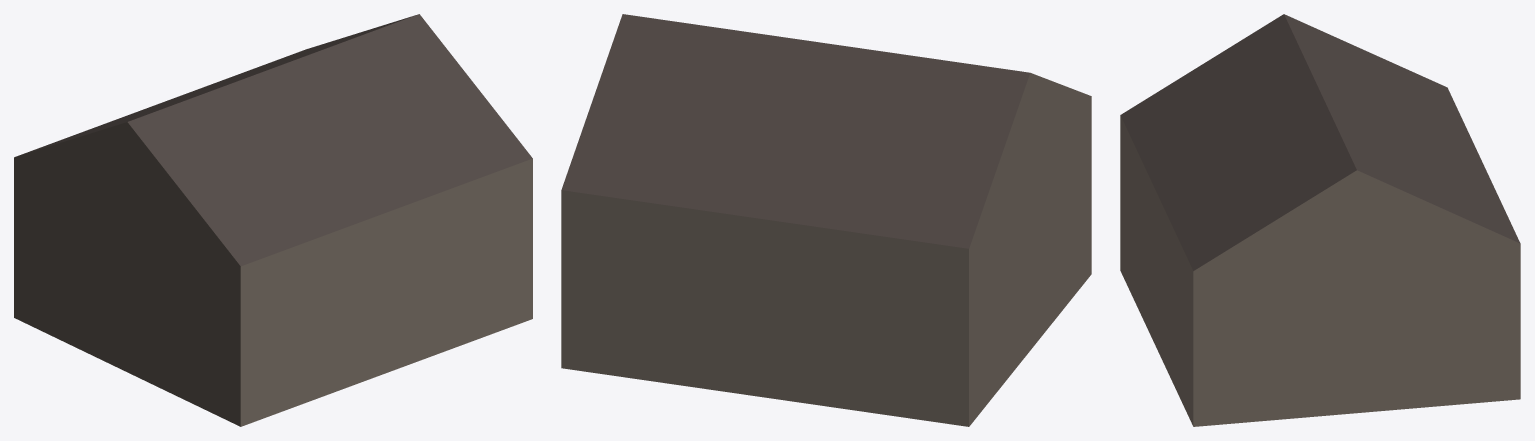
3 views of the same model, side by side, from view 1: azimuth 30°, elevation 25°; view 2: azimuth 150°, elevation 25°; view 3: azimuth 270°, elevation 25° (orthographic). The views are drawn at different scales.
Parts seen in each view (by area): view 1: HP-w682223763; view 2: HP-w682223763; view 3: HP-w682223763.
Boxes of the visible parts, <box> form: HP-w682223763: <box>14,14,532,426</box>; HP-w682223763: <box>561,14,1091,426</box>; HP-w682223763: <box>1120,14,1520,426</box>.
Size of the model in its own units: 15.18 by 9.36 by 13.97.
